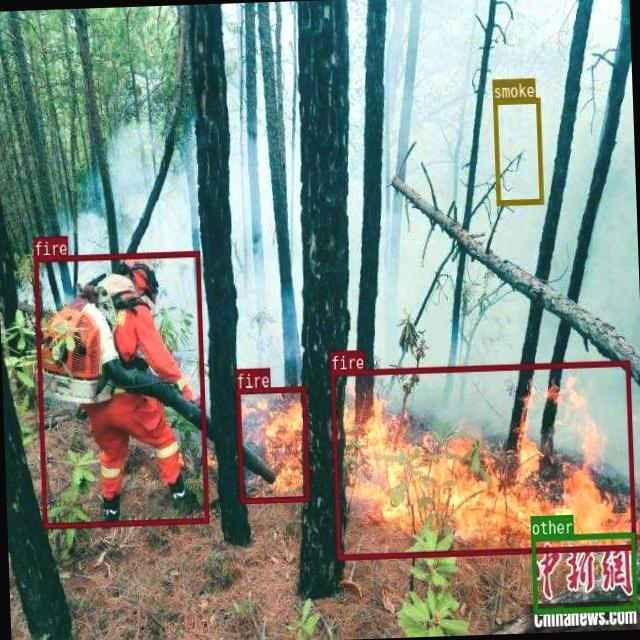fire: (330, 359, 634, 558), (33, 250, 208, 528), (235, 385, 309, 502)
smoke: (492, 96, 542, 205)
